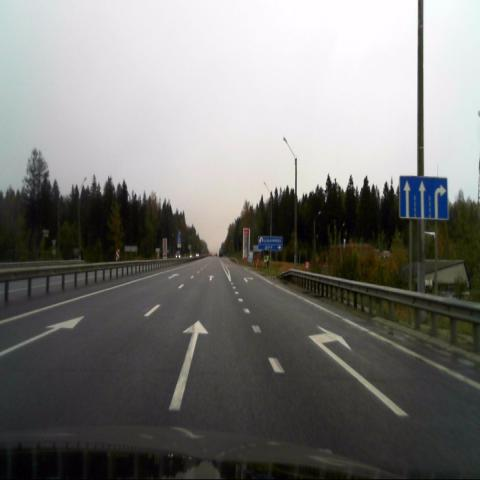5_15_1: (400, 176, 447, 218)
